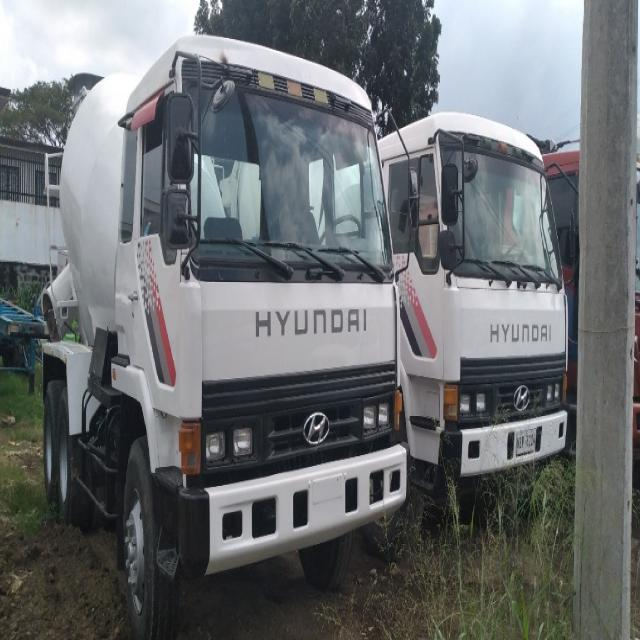Mixer Truck: (41, 34, 407, 640), (219, 110, 569, 534)
